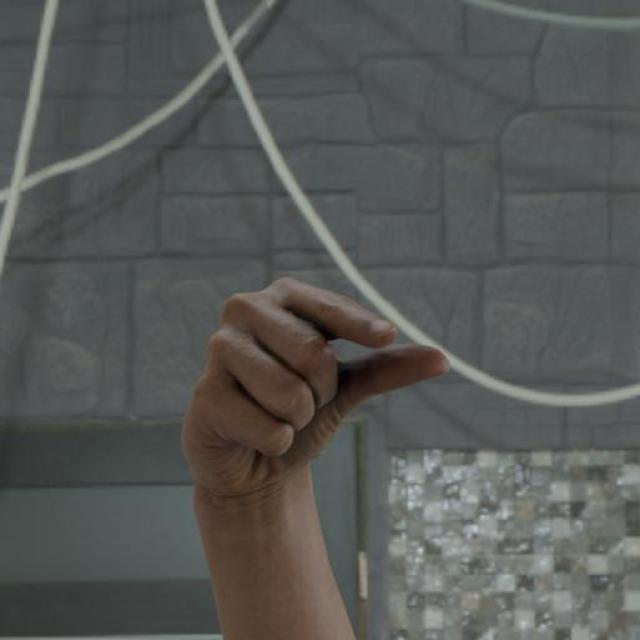G: (180, 274, 452, 502)
